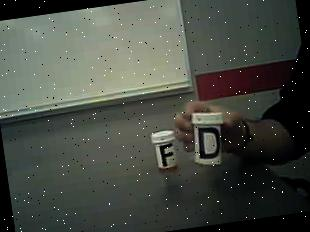Bottle D: (189, 108, 229, 173)
Bottle F: (148, 126, 183, 178)
